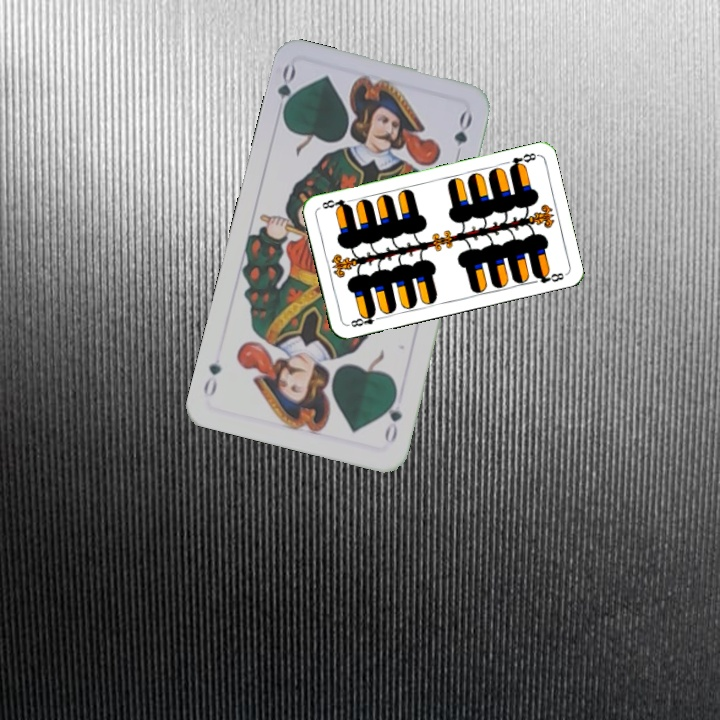E8: (344, 308, 384, 330), (505, 149, 540, 172)
GO: (272, 61, 301, 121), (380, 388, 405, 447)
